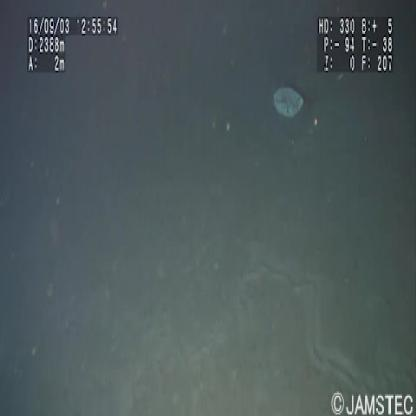Rác: (269, 82, 306, 123)
